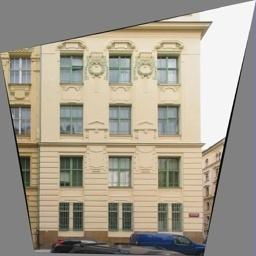building: (36, 6, 215, 256)
